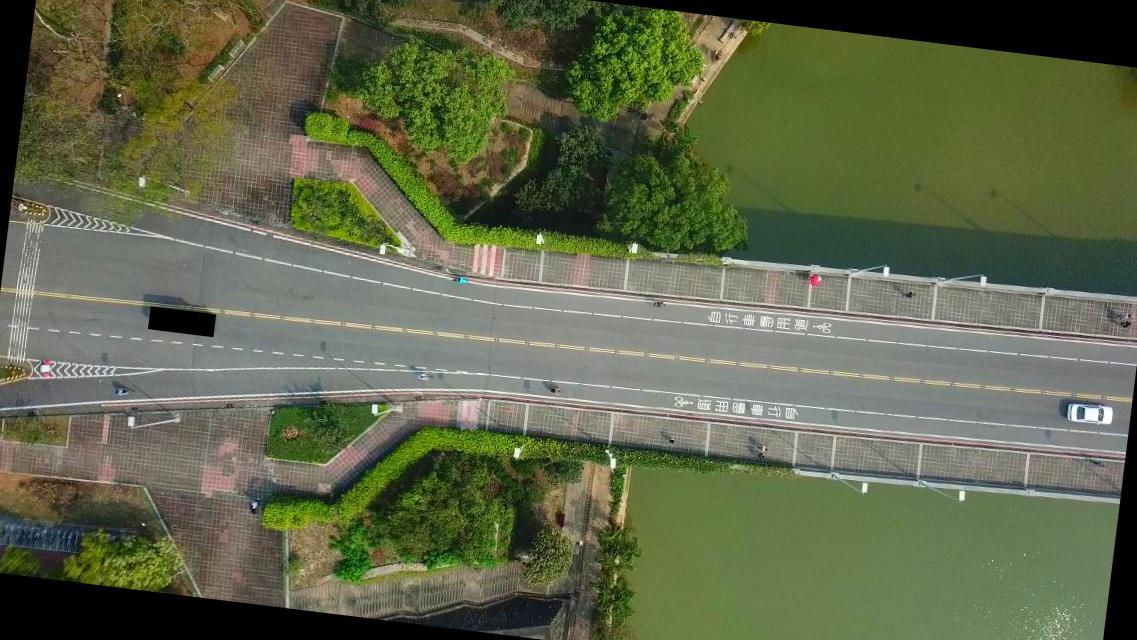vehicle: (1064, 400, 1112, 426)
